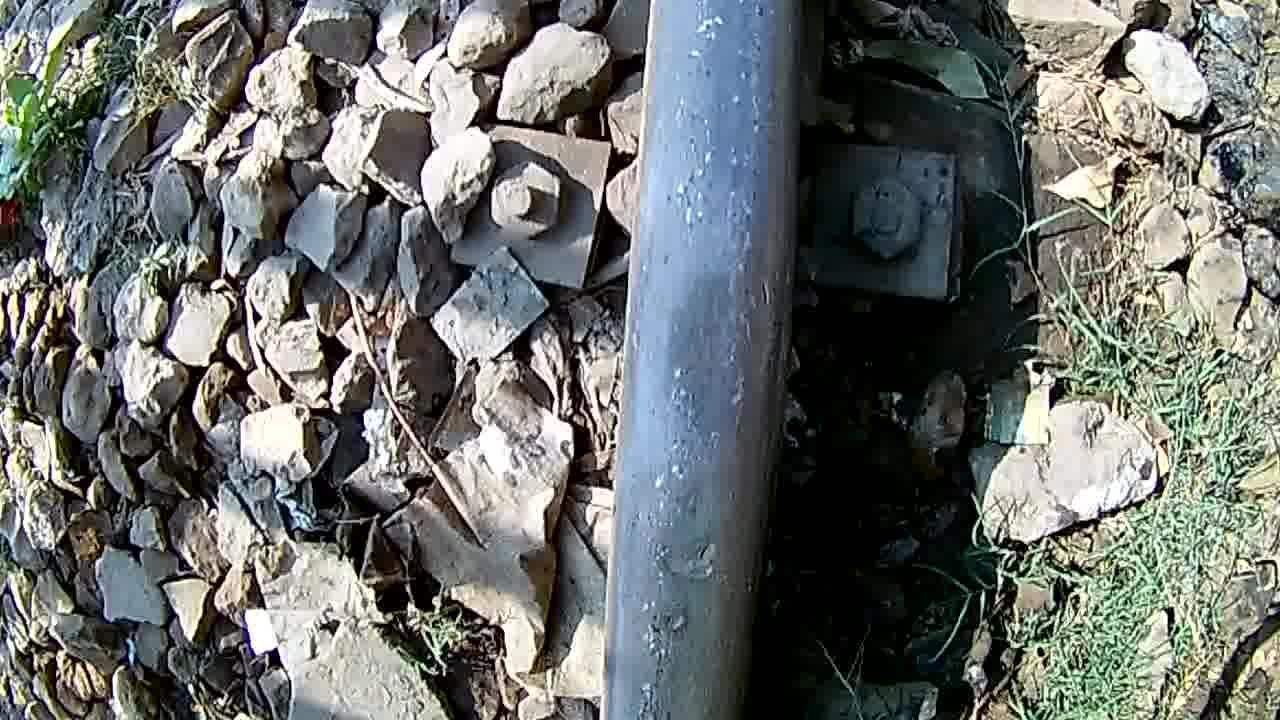crack: (624, 3, 798, 720)
